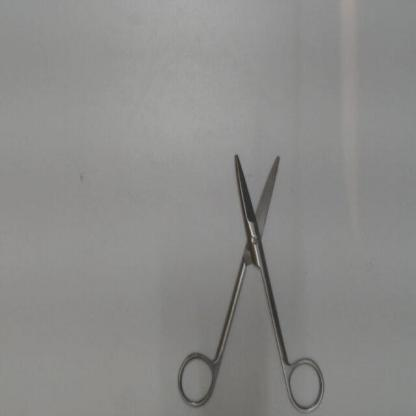Curved Mayo Scissors: (171, 146, 331, 414)
